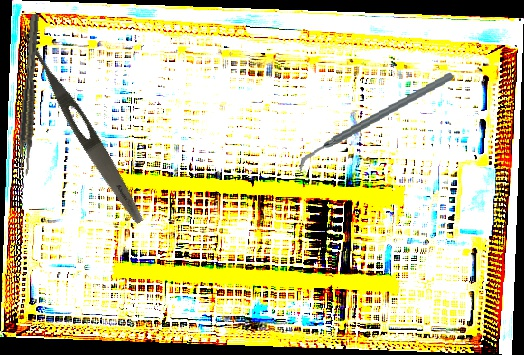Chopper: (288, 71, 462, 173)
Dressing Forceps: (13, 26, 149, 228)
Tissue Forceps: (15, 13, 45, 177)
